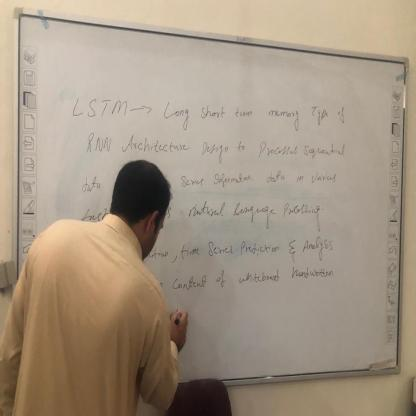Handwritten text: (66, 92, 353, 132), (85, 129, 352, 162), (153, 261, 346, 306), (138, 234, 338, 264), (175, 195, 326, 231), (176, 161, 342, 190), (75, 172, 105, 198)
Lecturer: (23, 154, 197, 407)
Whiteboard: (9, 11, 408, 406)
